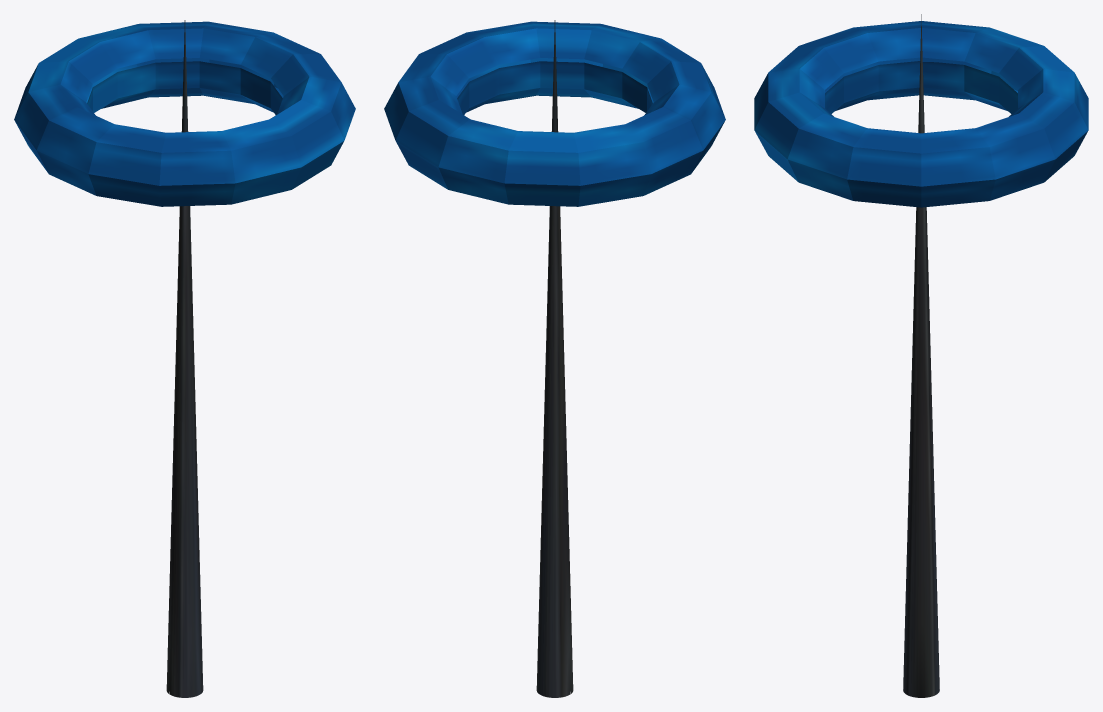
The model's file is spire.obj.
The picture shows the model from 3 angles, left to right: view 1: azimuth 30°, elevation 25°; view 2: azimuth 150°, elevation 25°; view 3: azimuth 270°, elevation 25°; orthographic projection.
Parts seen in each view (by area): view 1: Cone; view 2: Cone; view 3: Cone.
Part boxes in pixels (x1,y1,x2,y2): Cone: [14, 20, 355, 697]; Cone: [384, 20, 725, 697]; Cone: [754, 14, 1088, 697].
Size of the model in its own units: 56.05 by 122 by 54.64.
1 material, 1 textured.
